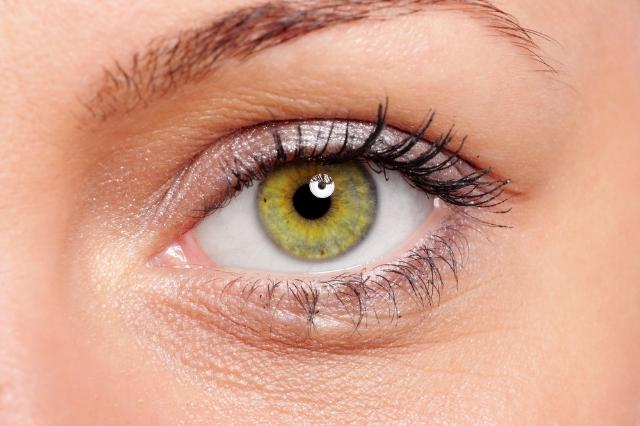eye: (252, 146, 380, 264)
